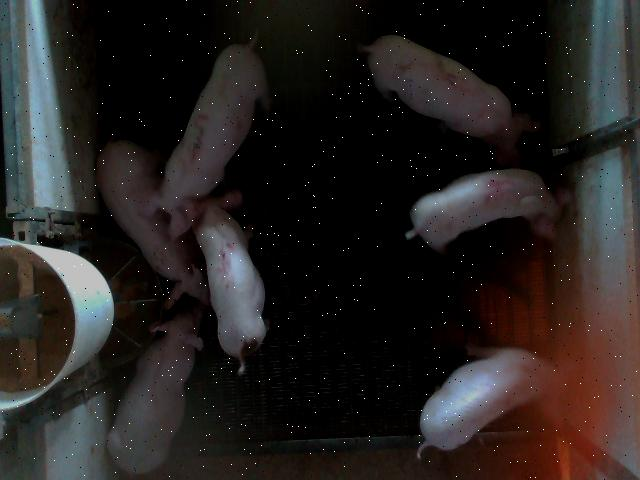pig-3: (141, 31, 270, 237)
pig-4: (405, 169, 571, 253)
pig-5: (192, 189, 268, 374)
